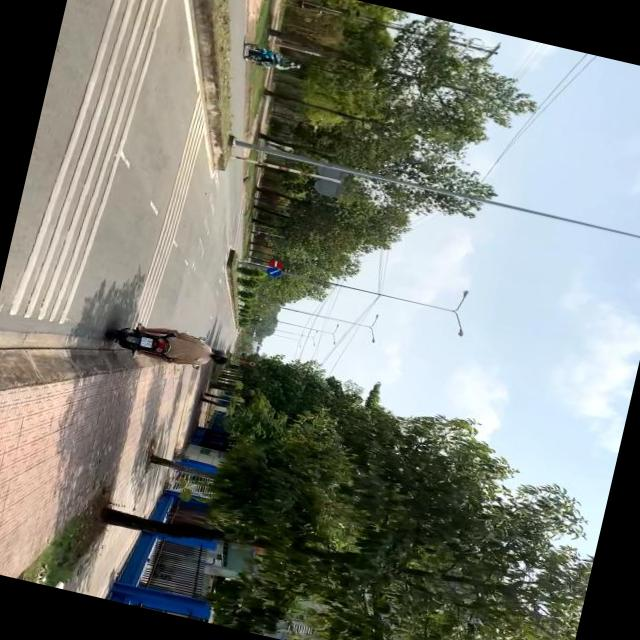P-102: (267, 258, 285, 270)
R-302a: (266, 267, 281, 277)
